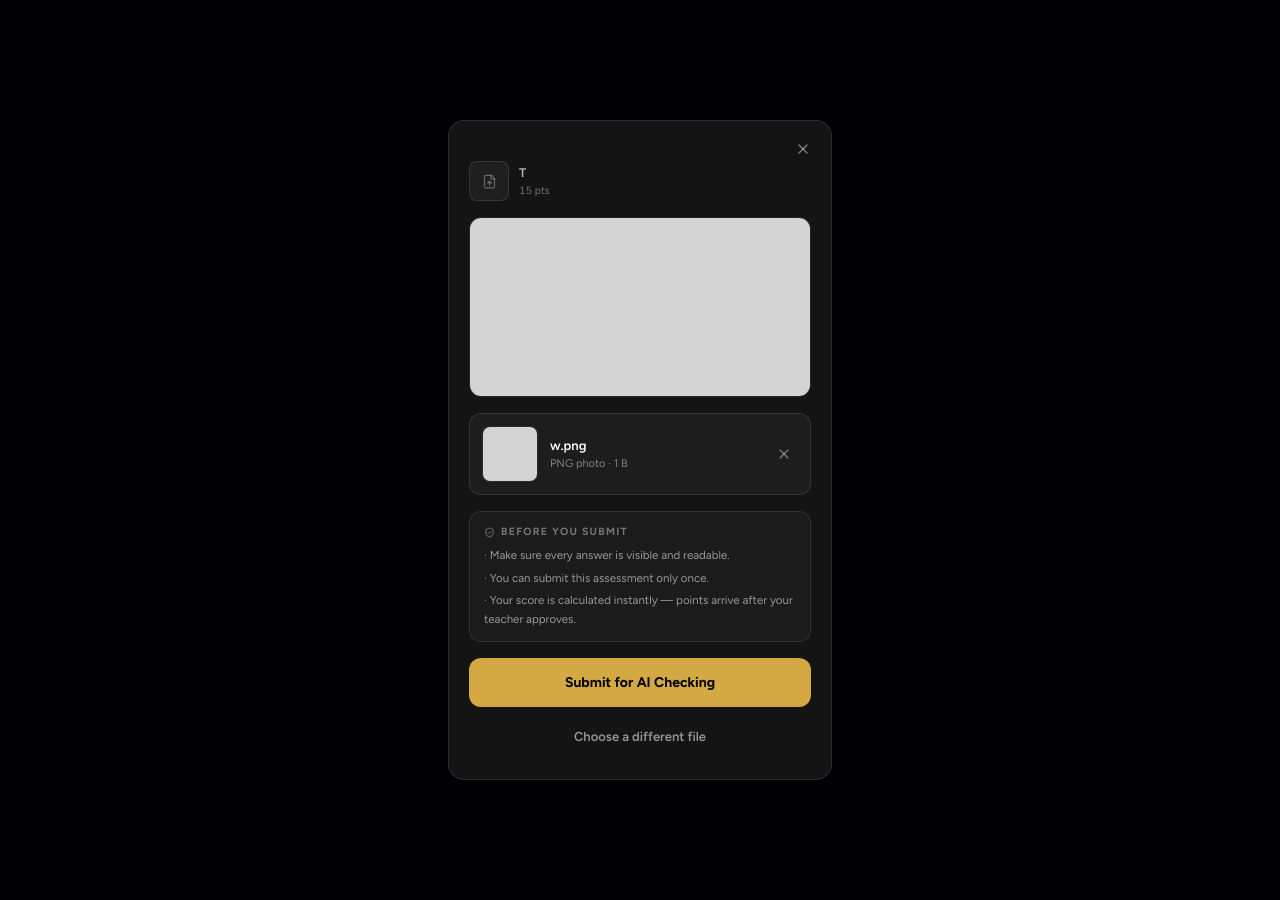
Test: a 409 duplicate submission is a first-class state, not a retry loop
Earlier steps of the test are not shown.
Later steps or results of the test are not shown.
Click the button with test id "assessment-submit-confirm-button".
click(640, 682)  # box x1=469 y1=658 x2=811 y2=707
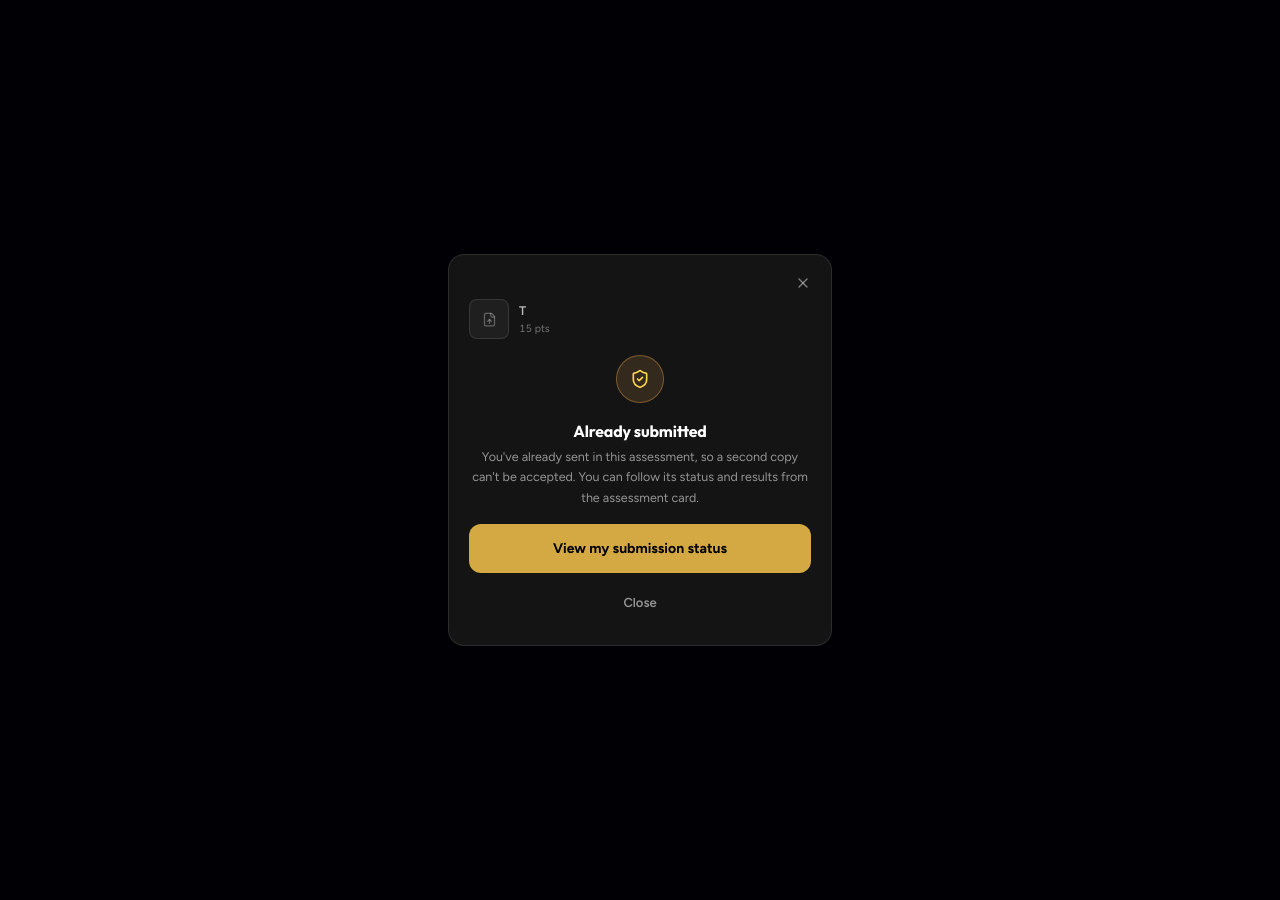
Check: the element with test id "assessment-submit-duplicate" shows "Already submitted", box x1=573 y1=421 x2=707 y2=441
